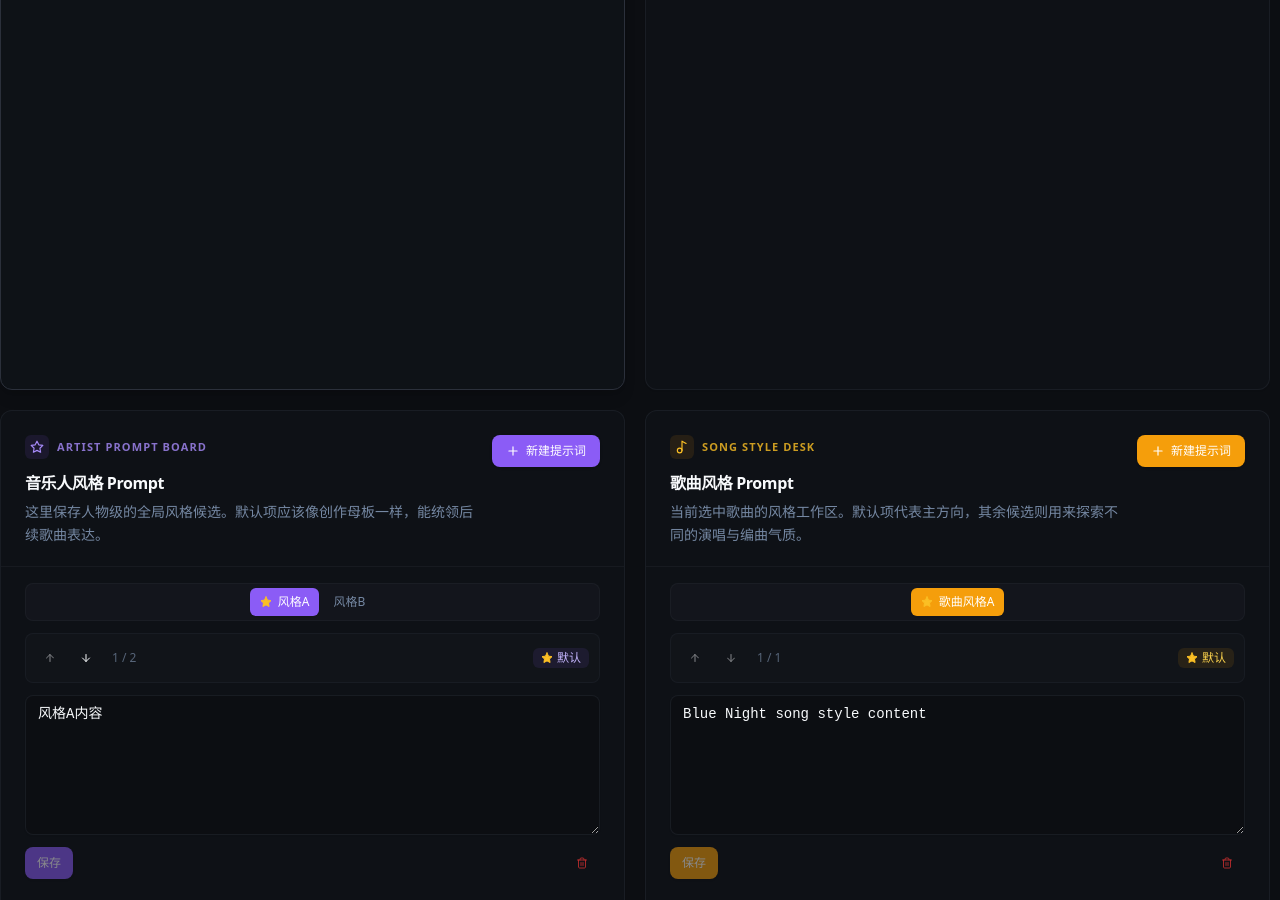
ArtistWorkspace › creates artist-level prompts locally without refetching detail
(page scrolled)
Expected: the text "音乐人风格 Prompt" is shown, left=25, top=472, right=164, bottom=494
Click the button "新建提示词" in the row of "Artist Prompt Board" at (546, 451), box left=492, top=435, right=600, bottom=467
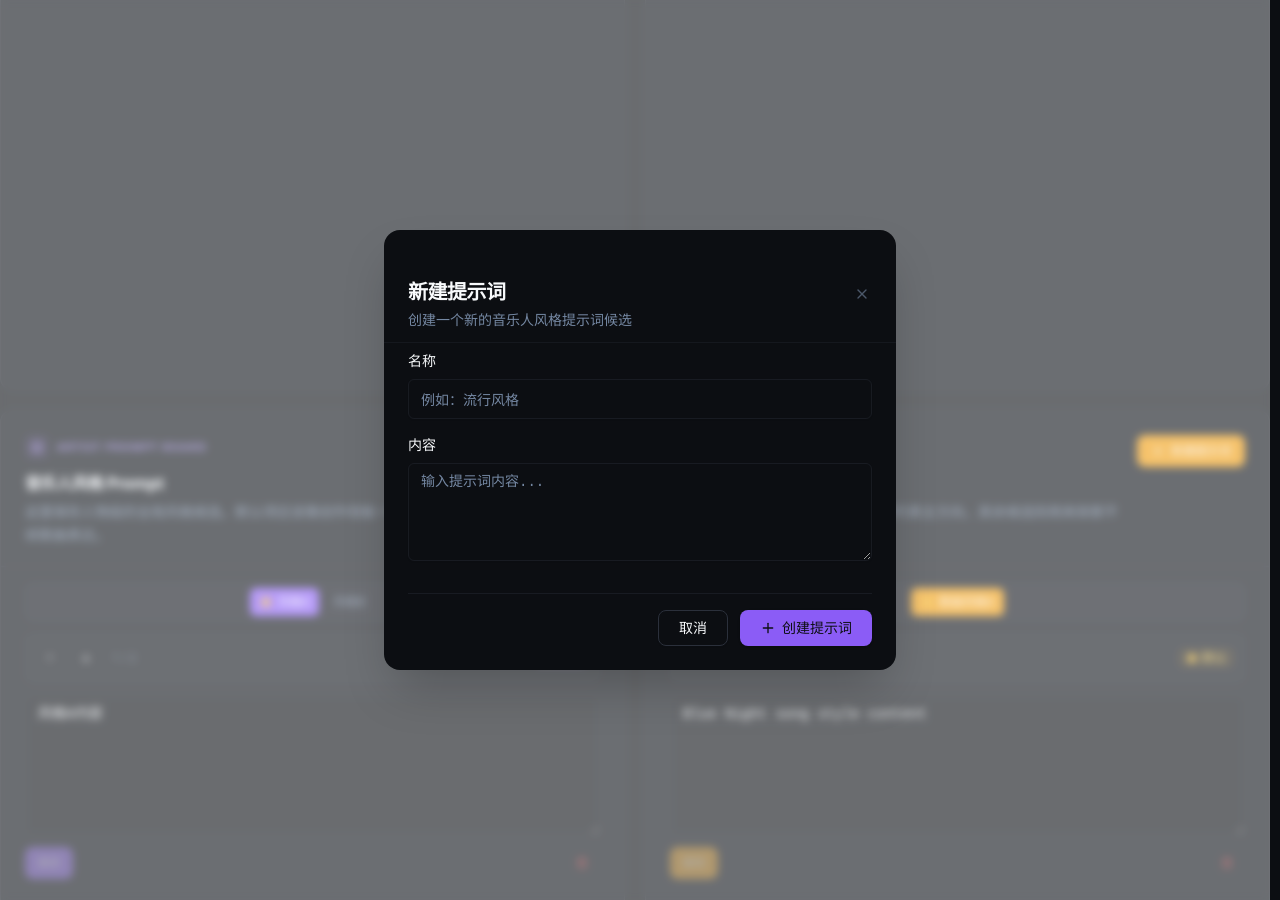
Type "风格C" into the field with placeholder "例如：流行风格" at (640, 399), box left=408, top=379, right=872, bottom=419
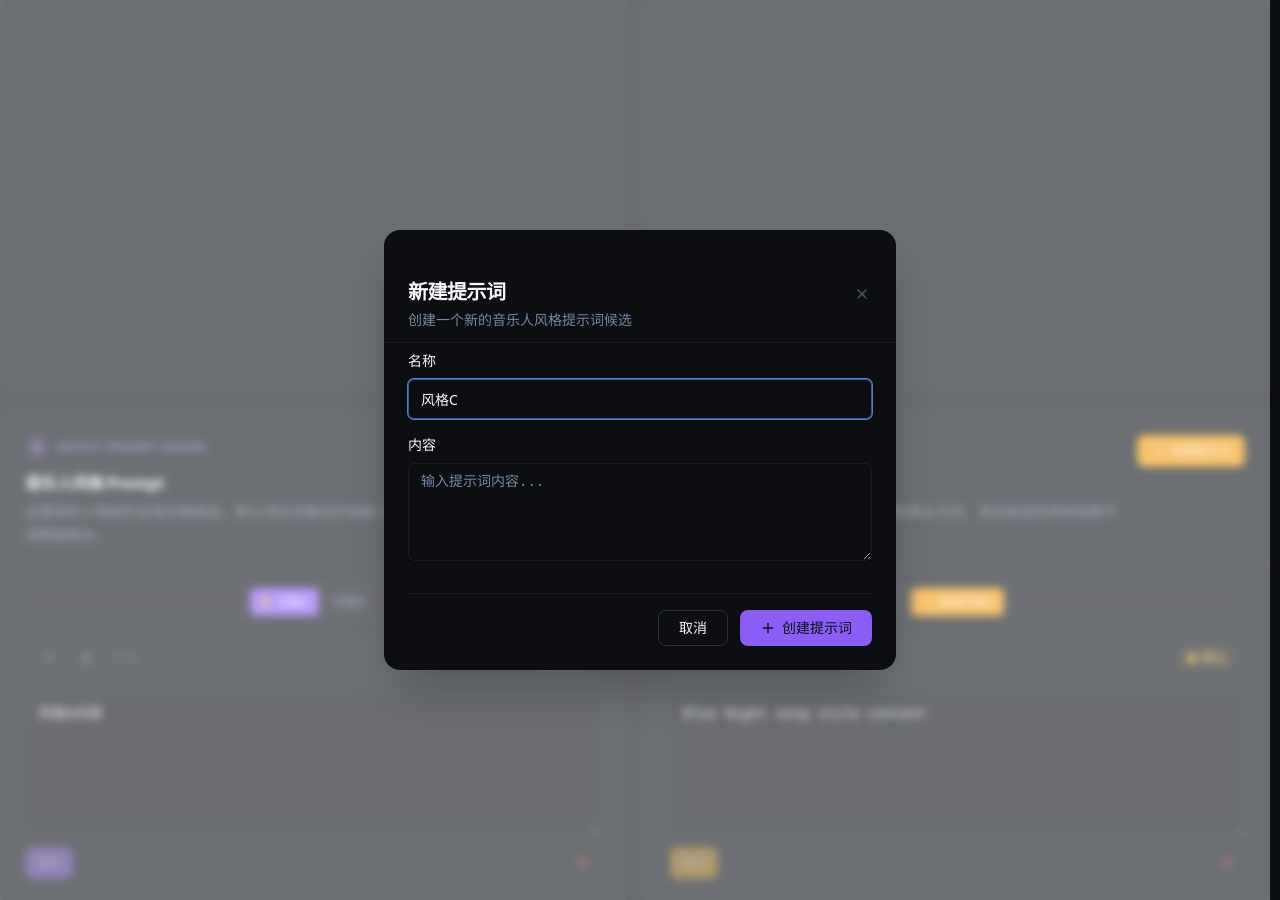
Type "风格C内容" into the text box with placeholder "输入提示词内容..." at (640, 512), box left=408, top=463, right=872, bottom=561
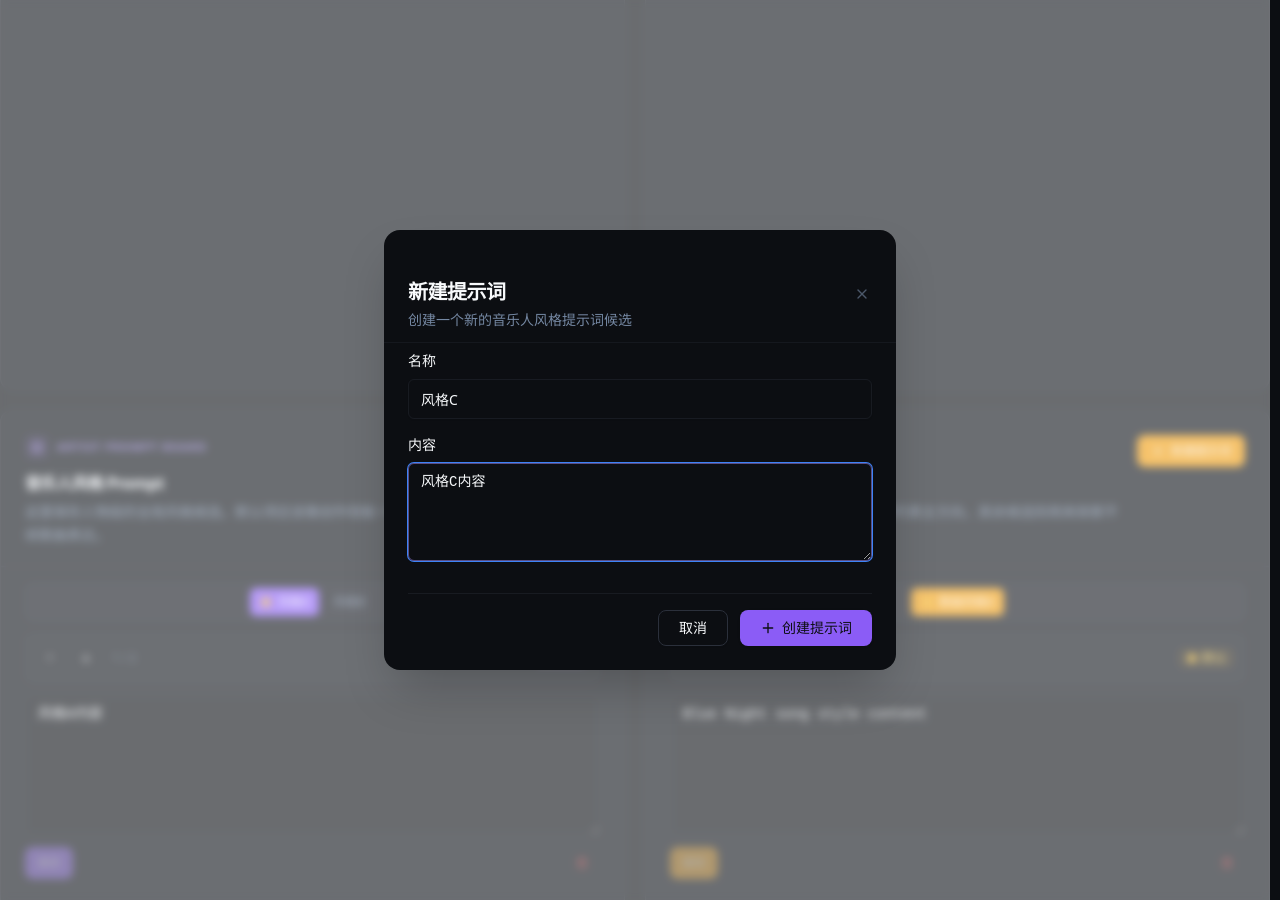
Click the button "创建提示词" at (806, 628), box left=740, top=610, right=872, bottom=646
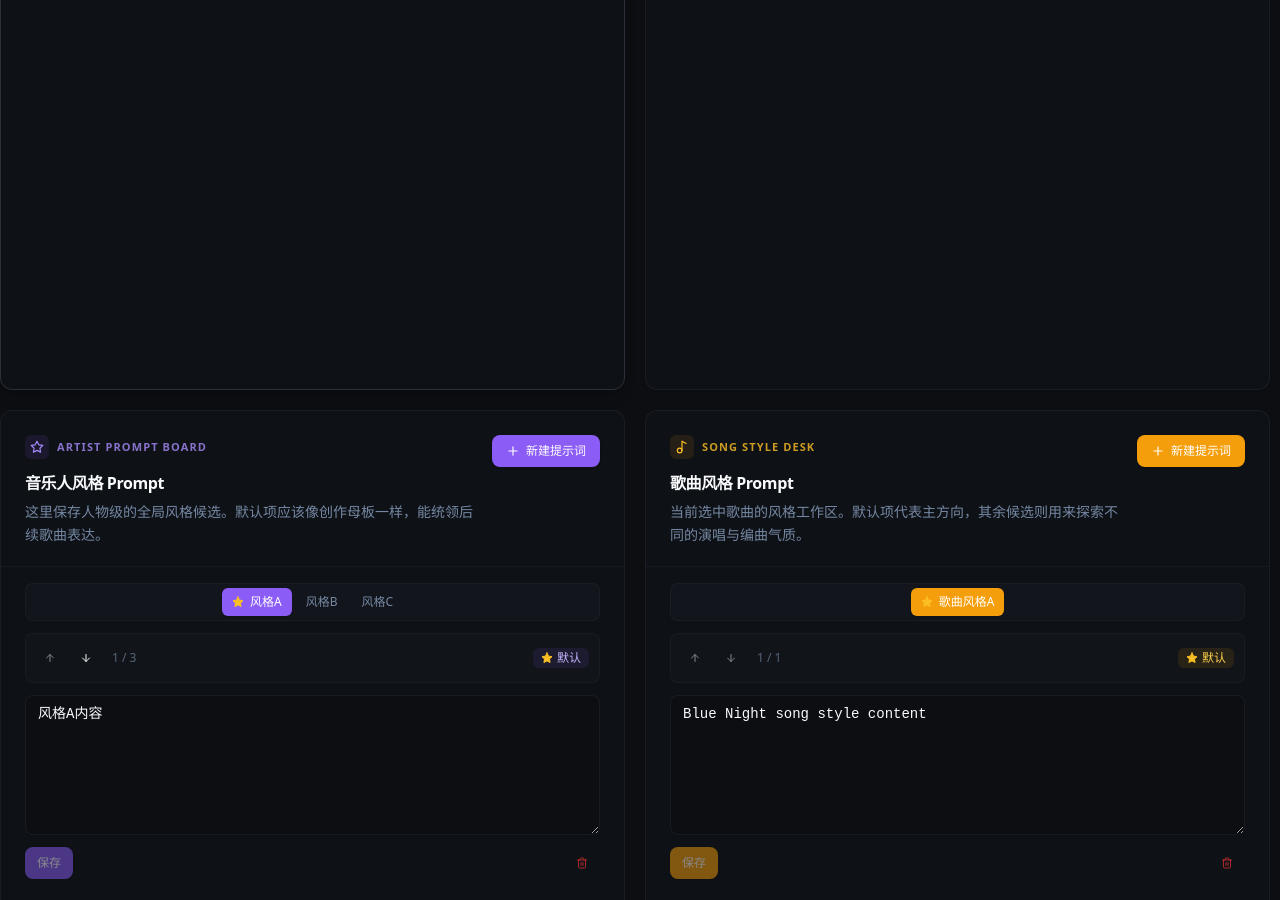
Now the tab "风格C" is shown, box left=351, top=588, right=403, bottom=616
